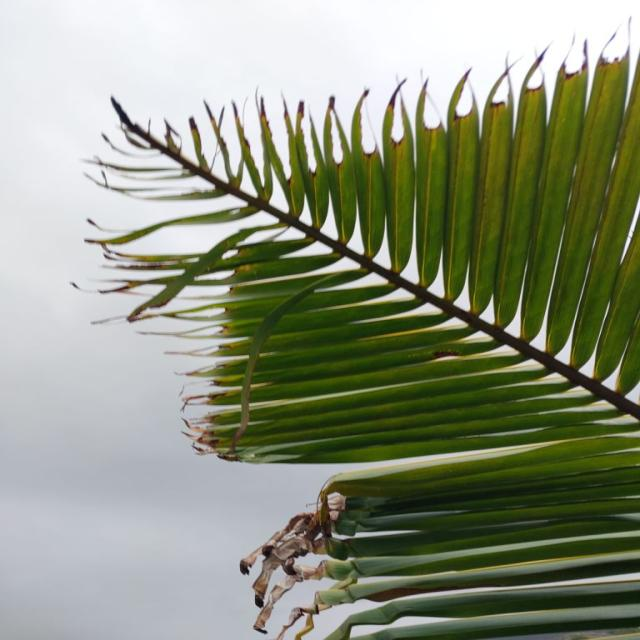leaf rot: (78, 22, 640, 637)
